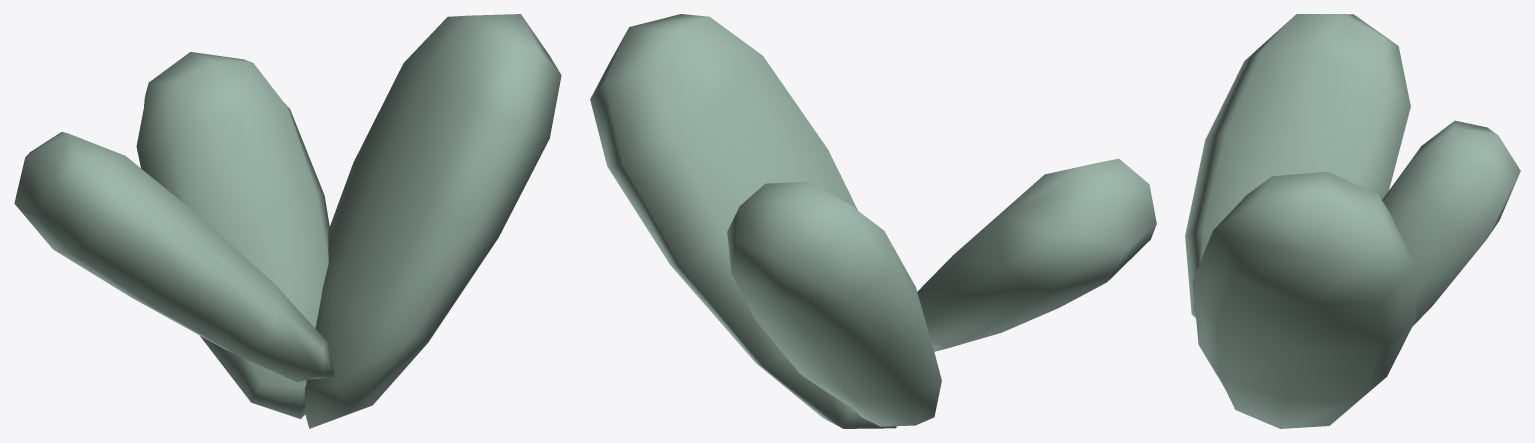
Rendered from TileGrass2.fbx.
The picture shows the model from 3 angles, left to right: view 1: azimuth 30°, elevation 25°; view 2: azimuth 150°, elevation 25°; view 3: azimuth 270°, elevation 25°; orthographic projection. The views are drawn at different scales.
Parts seen in each view (by area): view 1: TileGrass2; view 2: TileGrass2; view 3: TileGrass2.
Part boxes in pixels (x1,y1,x2,y2): TileGrass2: (14, 14, 561, 428); TileGrass2: (590, 14, 1156, 428); TileGrass2: (1185, 14, 1520, 428).
Size of the model in its own units: 59.39 by 38.41 by 34.75.
